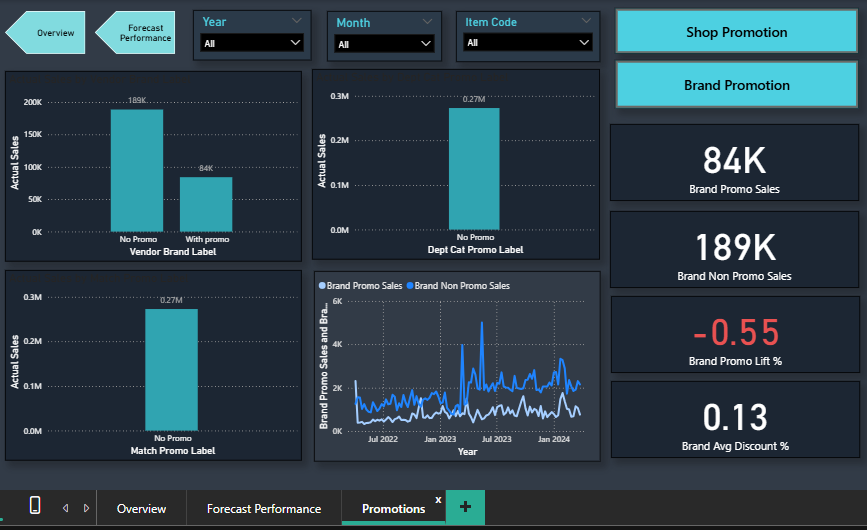

What the dashboard file says about the page in this screenshot:
{"tool":"powerbi","page":{"name":"Promotions","canvas":[1280,720],"ordinal":2},"visuals":[{"type":"slicer","fields":{"Values":["Main.time_line.Variation.Date Hierarchy.Month"]},"box":[483.8,16,169.3,73.6],"z":0},{"type":"columnChart","fields":{"Category":["Main.Vendor Brand Label"],"Y":["Main.Actual Sales"]},"box":[9.8,104.7,435.7,280],"z":0,"group":"g1"},{"type":"slicer","fields":{"Values":["Main.time_line.Variation.Date Hierarchy.Year"]},"box":[285.9,14.7,174.2,73.6],"z":1000},{"type":"columnChart","fields":{"Y":["Main.Actual Sales"],"Category":["Main.Dept Cat Promo Label"]},"box":[461.2,101.8,422.9,280],"z":1000,"group":"g1"},{"type":"columnChart","fields":{"Y":["Main.Actual Sales"],"Category":["Main.Match Promo Label"]},"box":[9.8,397.5,435.7,280],"z":2000,"group":"g1"},{"type":"card","fields":{"Values":["Main.Brand Promo Sales"]},"box":[898.2,182.1,365.6,112.9],"z":3000,"group":"g1"},{"type":"actionButton","box":[906.8,12.3,358.3,67.5],"z":4000},{"type":"lineChart","fields":{"Y":["Main.Brand Promo Sales","Main.Brand Non Promo Sales"],"Category":["Main.time_line.Variation.Date Hierarchy.Year","Main.time_line.Variation.Date Hierarchy.Quarter","Main.time_line.Variation.Date Hierarchy.Month","Main.time_line.Variation.Date Hierarchy.Day"]},"box":[463.7,398.1,420.9,279.8],"z":4000,"group":"g1"},{"type":"actionButton","box":[906.8,88.3,358.3,71.2],"z":5000},{"type":"card","fields":{"Values":["Main.Brand Non Promo Sales"]},"box":[898.2,310.9,365.6,112.9],"z":5000,"group":"g1"},{"type":"slicer","fields":{"Values":["Main.Item Code"]},"box":[672.4,16,212.3,74.8],"z":6000},{"type":"card","fields":{"Values":["Main.Brand Promo Lift %"]},"box":[900.7,434.8,365.6,112.9],"z":6000,"group":"g1"},{"type":"group","id":"g1","title":"Group 1","box":[9.8,101.8,1256.4,575.5],"z":7000},{"type":"card","fields":{"Values":["Main.Brand Avg Discount %"]},"box":[899.8,560.4,365.7,112.9],"z":7000,"group":"g1"},{"type":"pageNavigator","box":[9.8,16,250.3,63.8],"z":8000}]}

Visuals, with their boxes on the page's 1280x720 design canvas (x1, y1, x2, y2). These are canvas units, not pixel positions in the 867x530 screenshot, which may show the page scaled, cropped or inside an application window:
slicer - Main.time_line.Variation.Date Hierarchy.Month: detection(484, 16, 653, 90)
columnChart - Main.Vendor Brand Label x Main.Actual Sales: detection(10, 105, 446, 385)
slicer - Main.time_line.Variation.Date Hierarchy.Year: detection(286, 15, 460, 88)
columnChart - Main.Actual Sales x Main.Dept Cat Promo Label: detection(461, 102, 884, 382)
columnChart - Main.Actual Sales x Main.Match Promo Label: detection(10, 398, 446, 678)
card - Main.Brand Promo Sales: detection(898, 182, 1264, 295)
actionButton: detection(907, 12, 1265, 80)
lineChart - Main.Brand Promo Sales x Main.Brand Non Promo Sales: detection(464, 398, 885, 678)
actionButton: detection(907, 88, 1265, 160)
card - Main.Brand Non Promo Sales: detection(898, 311, 1264, 424)
slicer - Main.Item Code: detection(672, 16, 885, 91)
card - Main.Brand Promo Lift %: detection(901, 435, 1266, 548)
"Group 1" group: detection(10, 102, 1266, 677)
card - Main.Brand Avg Discount %: detection(900, 560, 1266, 673)
pageNavigator: detection(10, 16, 260, 80)
